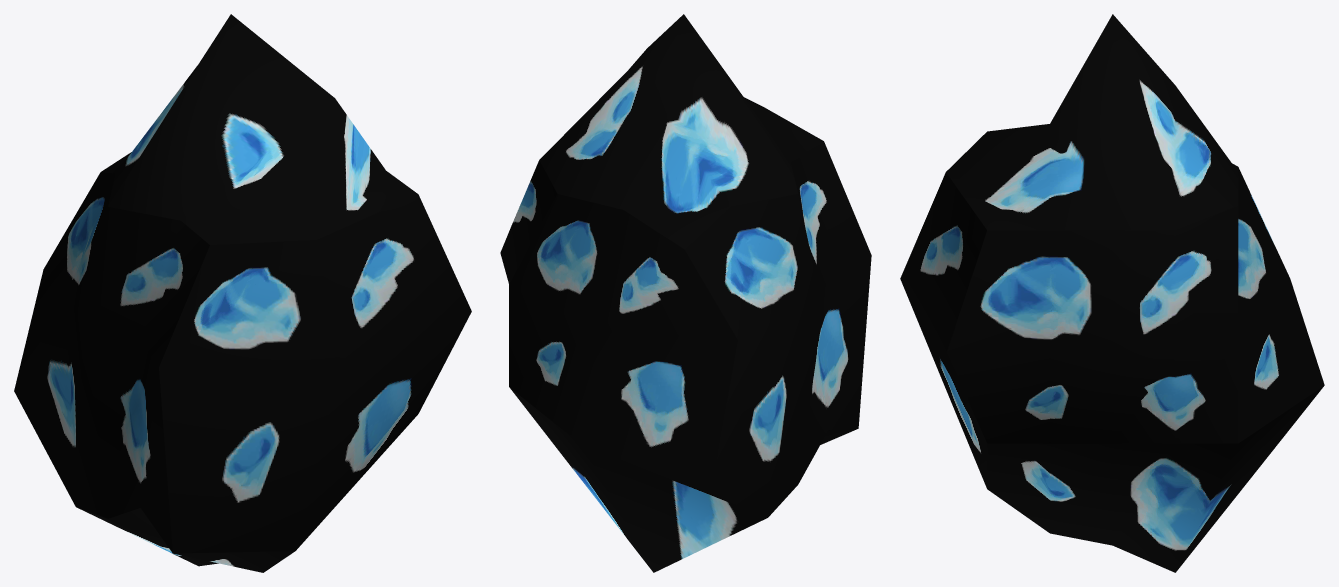
The model's file is 0229_bingkuai.glb.
3 renders of one model, left to right at view 1: azimuth 30°, elevation 25°; view 2: azimuth 150°, elevation 25°; view 3: azimuth 270°, elevation 25°, orthographic. The views are drawn at different scales.
Size of the model in its own units: 1.33 by 2.2 by 1.51.
1 material, 1 textured.
